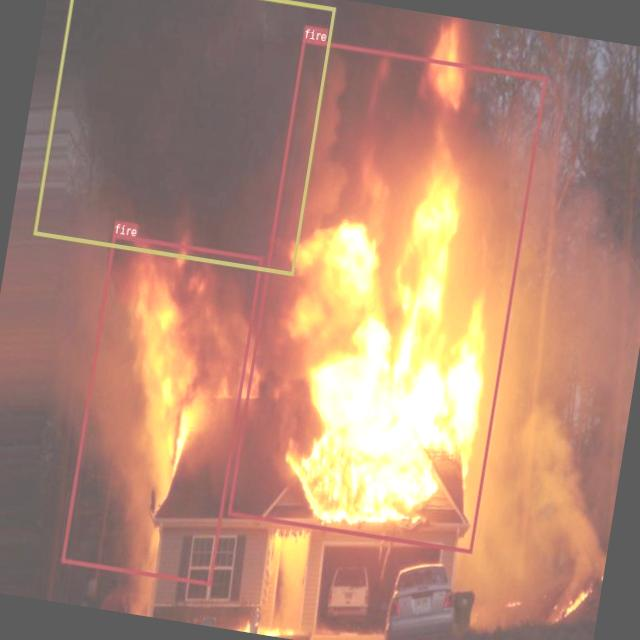fire: (227, 38, 546, 553), (60, 233, 262, 586)
smoke: (33, 0, 335, 275)
